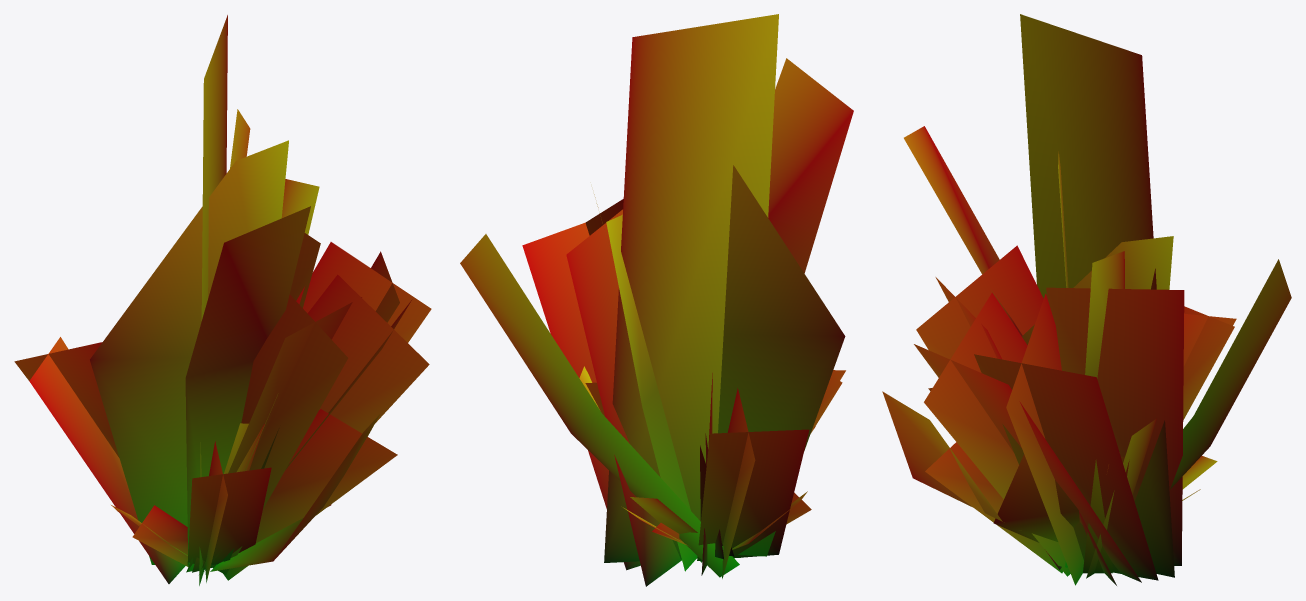
File: Dead Broom Bush_LOD2_Var1_tlpjdhwia.fbx
The picture shows the model from 3 angles, left to right: view 1: azimuth 30°, elevation 25°; view 2: azimuth 150°, elevation 25°; view 3: azimuth 270°, elevation 25°; orthographic projection.
Visible parts, largest first — view 1: _fe86_Var1_LOD2; view 2: _fe86_Var1_LOD2; view 3: _fe86_Var1_LOD2.
Part boxes in pixels (x1=…): _fe86_Var1_LOD2: x1=14, y1=15, x2=431, y2=585; _fe86_Var1_LOD2: x1=460, y1=14, x2=853, y2=586; _fe86_Var1_LOD2: x1=882, y1=14, x2=1291, y2=585.
Size of the model in its own units: 36.72 by 57.37 by 39.59.
